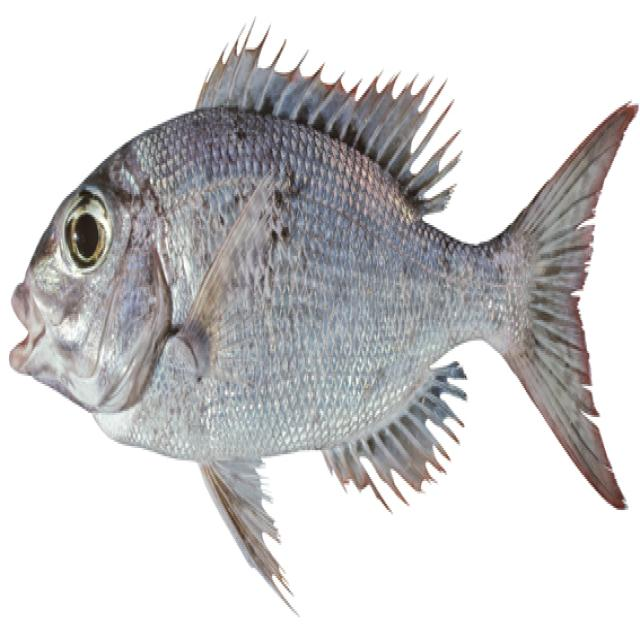ikan: (8, 14, 637, 616)
